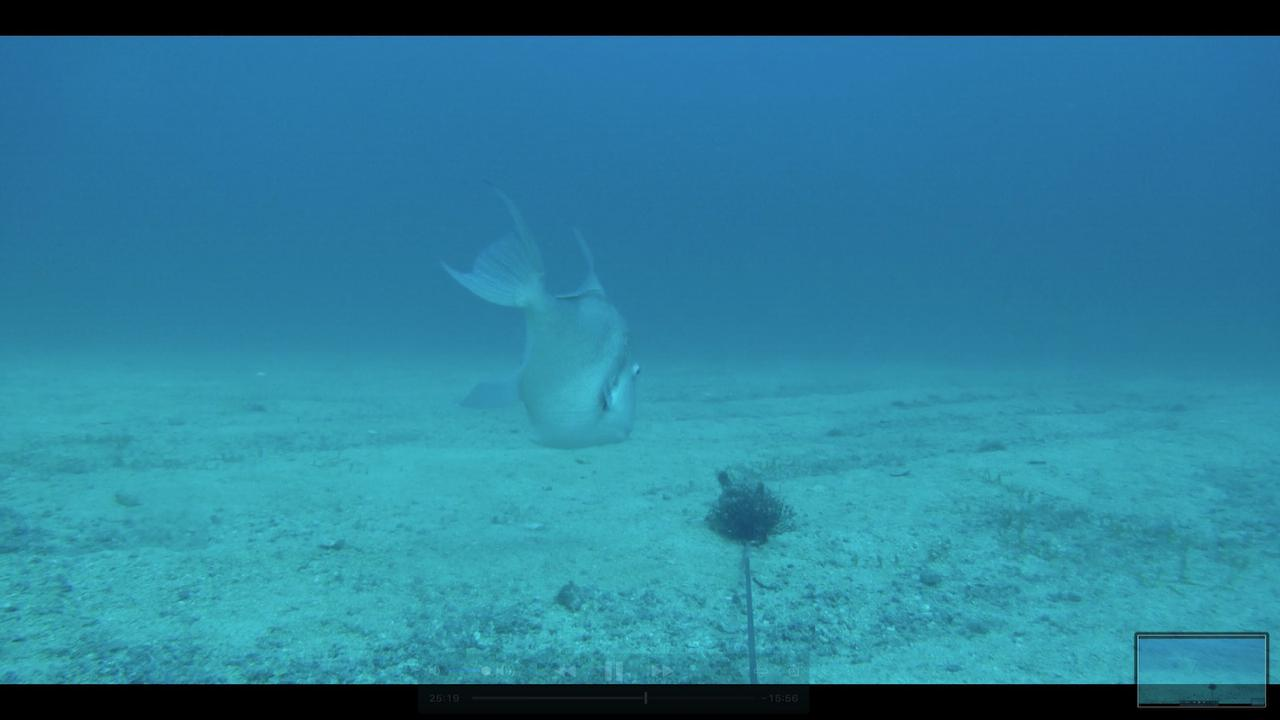balistes: (440, 187, 645, 448)
